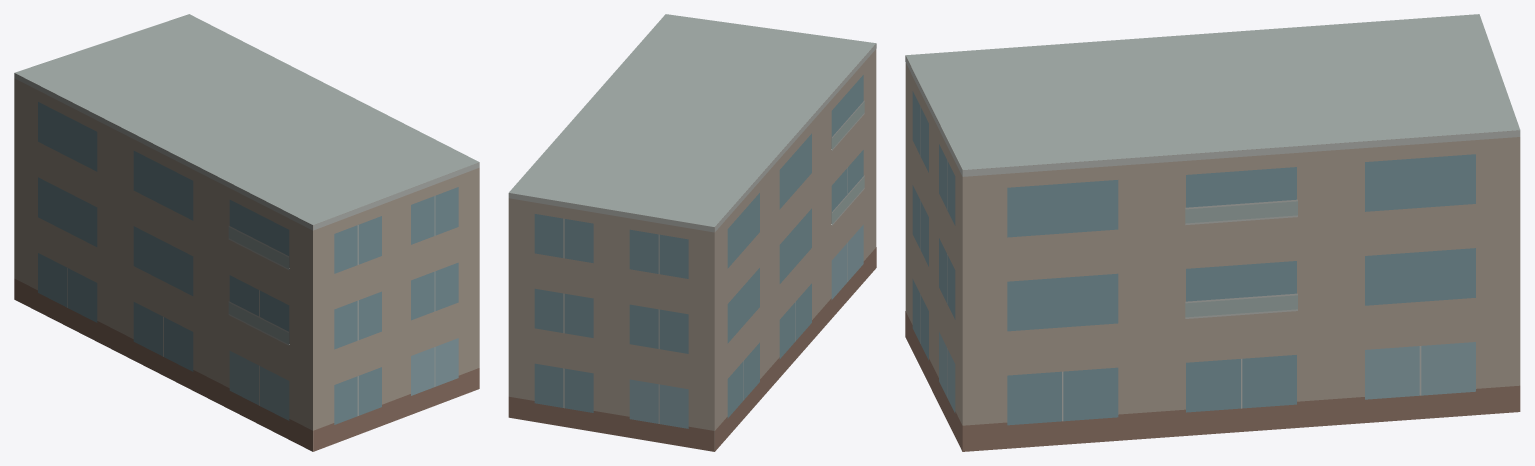
Rendered from survey-upis-32938438.glb.
3 views of the same model, side by side, from view 1: azimuth 30°, elevation 25°; view 2: azimuth 150°, elevation 25°; view 3: azimuth 270°, elevation 25° (orthographic). The views are drawn at different scales.
Parts seen in each view (by area): view 1: survey-upis-32938438.tmp; view 2: survey-upis-32938438.tmp; view 3: survey-upis-32938438.tmp.
Boxes of the visible parts, x1=… form: survey-upis-32938438.tmp: x1=14, y1=14, x2=479, y2=451; survey-upis-32938438.tmp: x1=508, y1=14, x2=876, y2=451; survey-upis-32938438.tmp: x1=905, y1=14, x2=1520, y2=451.
Size of the model in its own units: 12.13 by 10.2 by 20.19.
